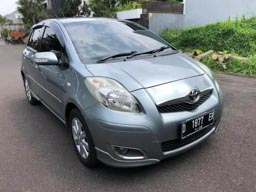plat: (180, 111, 216, 140)
